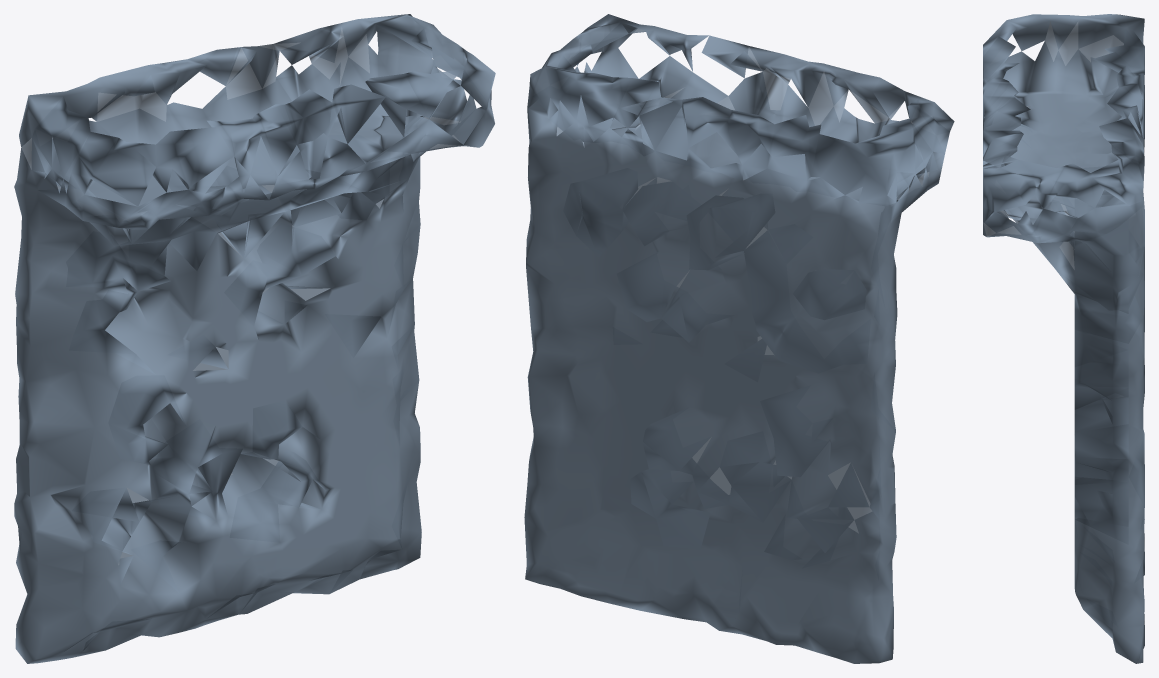
Rendered from sample_125_orig.obj.
The picture shows the model from 3 angles, left to right: view 1: azimuth 30°, elevation 25°; view 2: azimuth 150°, elevation 25°; view 3: azimuth 270°, elevation 25°; orthographic projection. The views are drawn at different scales.
Bounding box in the file's own units: 1.09 × 1.5 × 0.4496.
